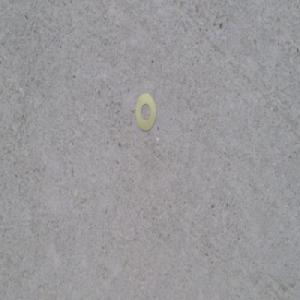Washer: (135, 94, 157, 135)
